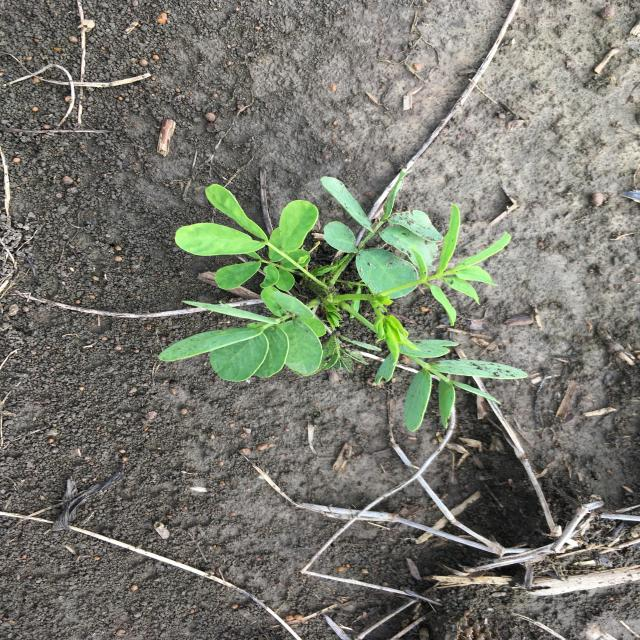Sicklepod: (154, 172, 533, 434)
